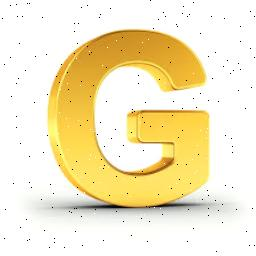g: (46, 18, 216, 220)
